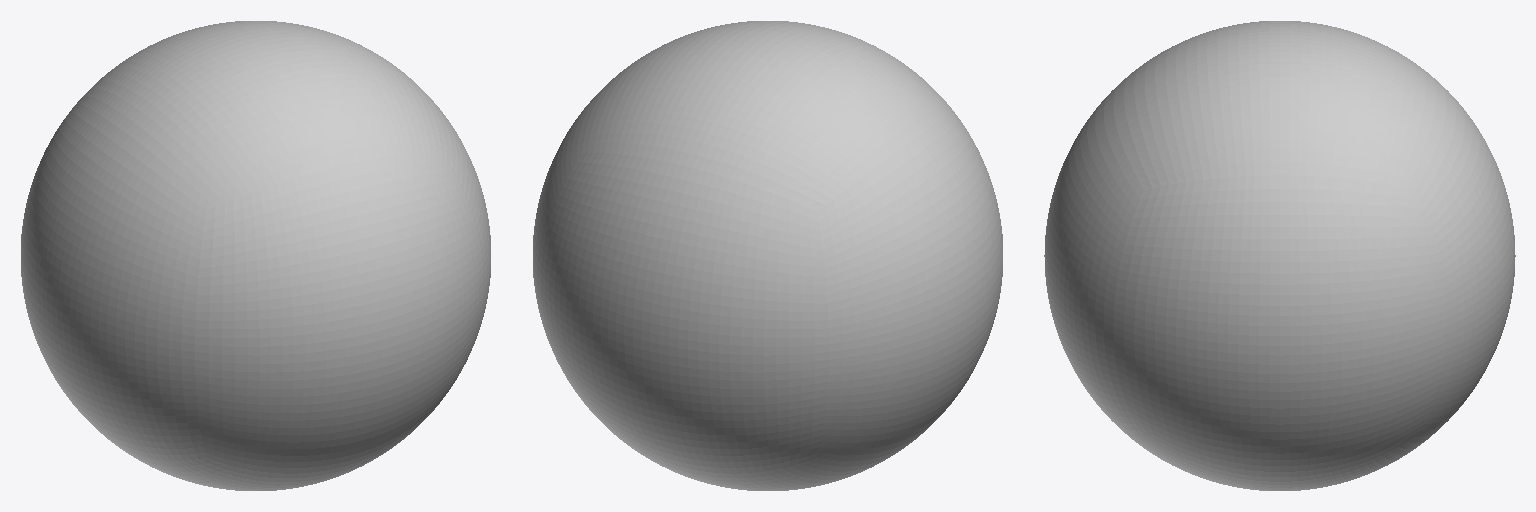
Rendered from FFSphereRCres2.obj.
3 renders of one model, left to right at view 1: azimuth 30°, elevation 25°; view 2: azimuth 150°, elevation 25°; view 3: azimuth 270°, elevation 25°, orthographic.
Parts seen in each view (by area): view 1: Roundcube.004; view 2: Roundcube.004; view 3: Roundcube.004.
Part boxes in pixels (left/top/right/bottom): Roundcube.004: left=21, top=21, right=490, bottom=490; Roundcube.004: left=533, top=21, right=1002, bottom=490; Roundcube.004: left=1044, top=21, right=1515, bottom=490.
Size of the model in its own units: 1 by 1 by 1.